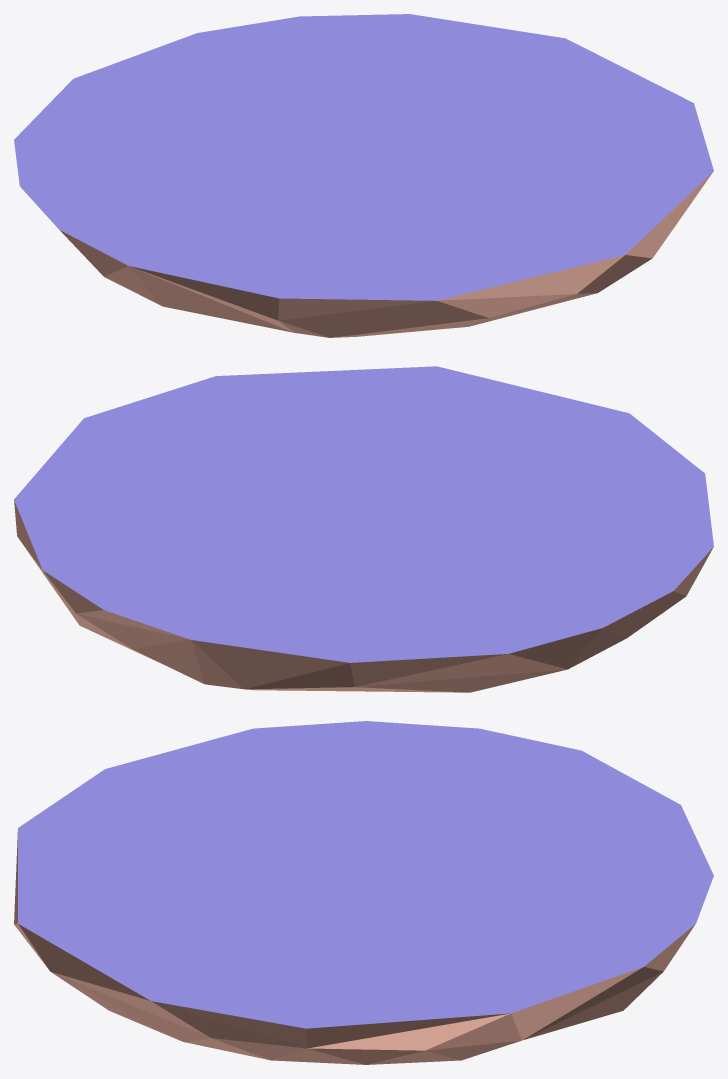
Rendered from Coupole1.FBX.
3 views of the same model, one above another, from view 1: azimuth 30°, elevation 25°; view 2: azimuth 150°, elevation 25°; view 3: azimuth 270°, elevation 25° (orthographic). The views are drawn at different scales.
Parts seen in each view (by area): view 1: GeoSphere037; view 2: GeoSphere037; view 3: GeoSphere037.
Part boxes in pixels (left/top/right/bottom): GeoSphere037: left=14, top=14, right=713, bottom=337; GeoSphere037: left=14, top=366, right=713, bottom=692; GeoSphere037: left=14, top=721, right=713, bottom=1064.
Size of the model in its own units: 8.47 by 1.4 by 8.14.
